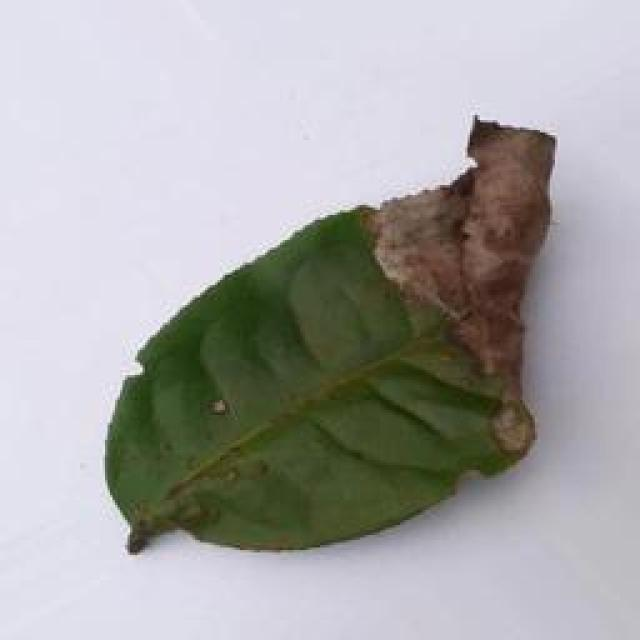Brown Blight: (78, 110, 565, 572)
